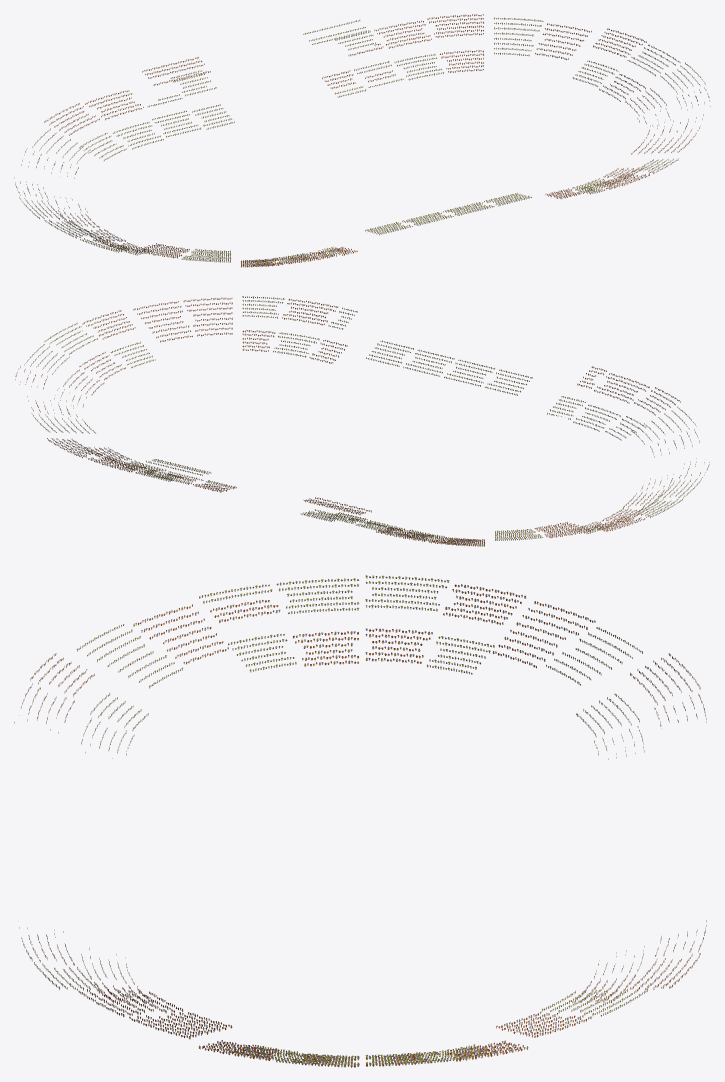
File: crowd_1.glb
The picture shows the model from 3 angles, top to bottom: view 1: azimuth 30°, elevation 25°; view 2: azimuth 150°, elevation 25°; view 3: azimuth 270°, elevation 25°; orthographic projection. The views are drawn at different scales.
Visible parts, largest first — view 1: Object_44.004; view 2: Object_44.004; view 3: Object_44.004.
Boxes of the visible parts, x1,y1,x2,y2 form: Object_44.004: (14, 14, 710, 267); Object_44.004: (15, 296, 709, 546); Object_44.004: (14, 575, 706, 1067).
Size of the model in its own units: 552 by 33.29 by 333.
1 material, 1 textured.
